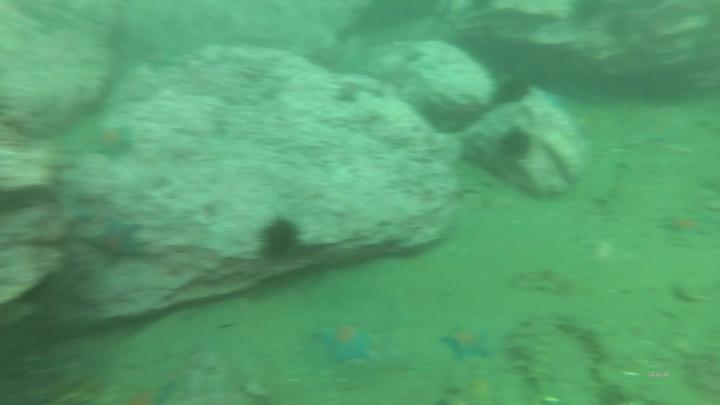echinus: (260, 217, 303, 261), (496, 125, 532, 164), (492, 77, 532, 109)
holothurian: (569, 314, 635, 404), (508, 312, 560, 402), (509, 267, 577, 298)
starfish: (86, 218, 148, 268), (317, 321, 376, 366), (439, 321, 494, 365), (85, 124, 137, 160), (661, 209, 713, 241)
